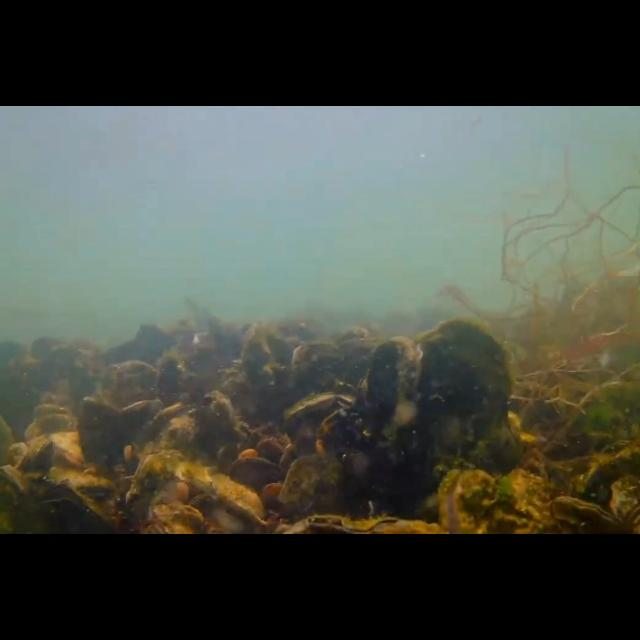Oyster-Closed: (127, 453, 187, 535), (14, 438, 54, 478)
Oyster-Indeterminate: (417, 320, 511, 450), (360, 338, 422, 444), (278, 453, 344, 531), (80, 396, 128, 468), (211, 474, 265, 522), (198, 390, 236, 456)
Oyster-Open: (282, 394, 358, 458), (149, 402, 199, 446), (32, 404, 78, 432)
